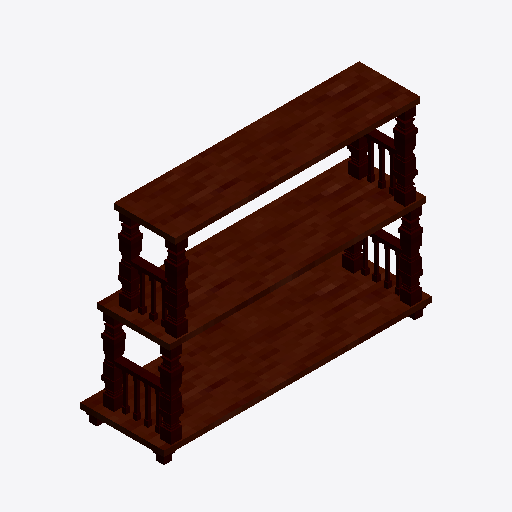
Isometric view (azimuth 45°, elevation 35.3°) of a Minecraft model made of 225 cuboids, textured from the same repository.
Visible parts, largest first — element 55, element 56, element 57, element 29.
Part boxes in pixels (x1,y1,x2,y2): element 55: (80,251,431,456); element 56: (97,158,425,350); element 57: (114,61,419,244); element 29: (114,356,162,391).
Bounding box in the file's own units: 48 × 35 × 15.